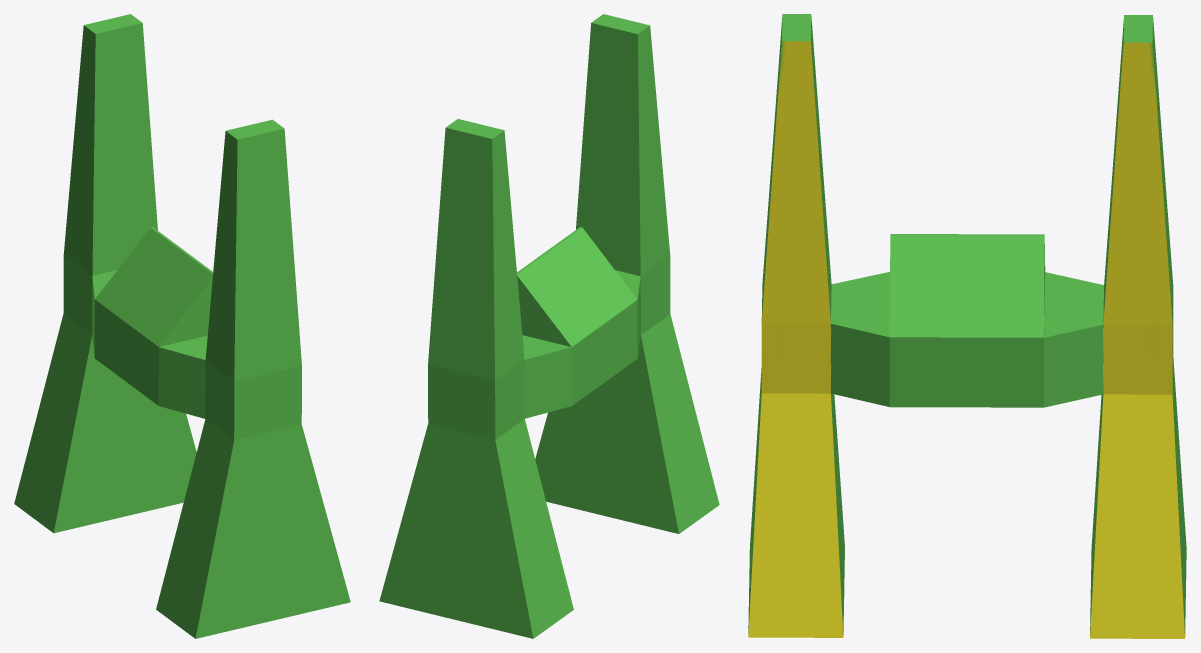
File: GreenShip33.fbx
3 renders of one model, left to right at view 1: azimuth 30°, elevation 25°; view 2: azimuth 150°, elevation 25°; view 3: azimuth 270°, elevation 25°, orthographic. The views are drawn at different scales.
Visible parts, largest first — view 1: Cube; view 2: Cube; view 3: Cube.
Boxes of the visible parts, x1,y1,x2,y2 form: Cube: (14, 14, 350, 638); Cube: (379, 14, 719, 638); Cube: (748, 14, 1186, 638).
Bounding box in the file's own units: 279 × 809 × 568.
1 material, 1 textured.
